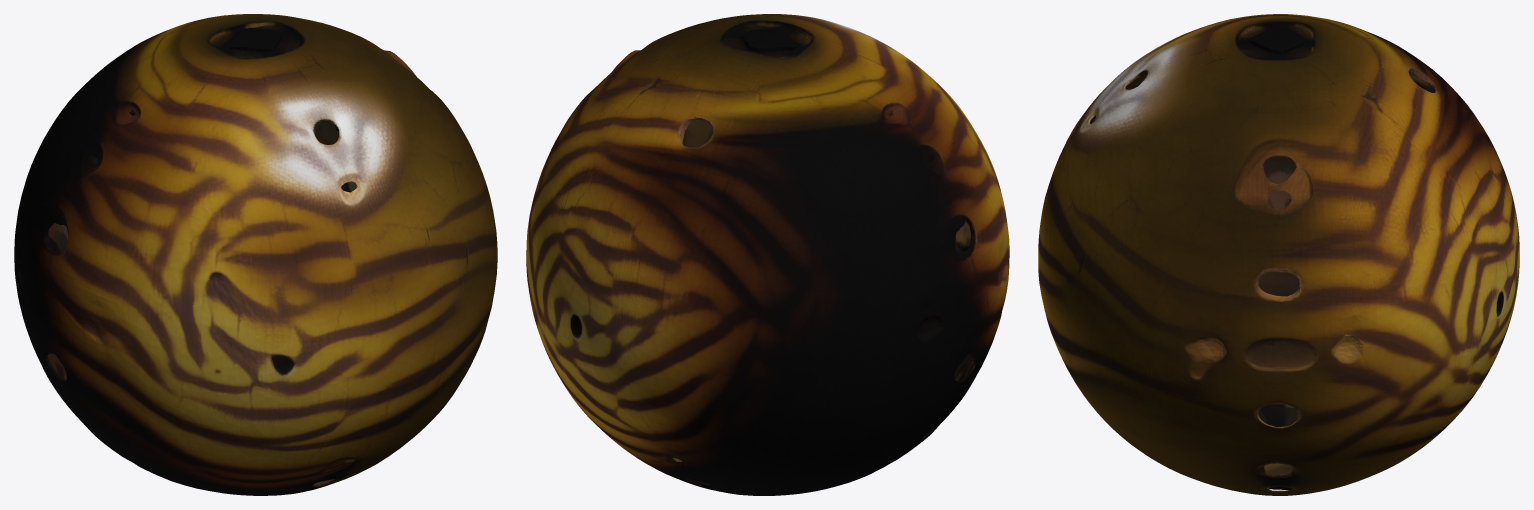
The model's file is wooden-button-rustic.jpeg.glb.
The picture shows the model from 3 angles, left to right: view 1: azimuth 30°, elevation 25°; view 2: azimuth 150°, elevation 25°; view 3: azimuth 270°, elevation 25°; orthographic projection.
Parts seen in each view (by area): view 1: world; view 2: world; view 3: world.
Boxes of the visible parts, x1=… form: world: x1=14, y1=14, x2=497, y2=495; world: x1=526, y1=14, x2=1009, y2=495; world: x1=1038, y1=14, x2=1519, y2=495.
Size of the model in its own units: 0.9986 by 0.9942 by 0.9995.
Materials: 1 (1 with a texture image).
